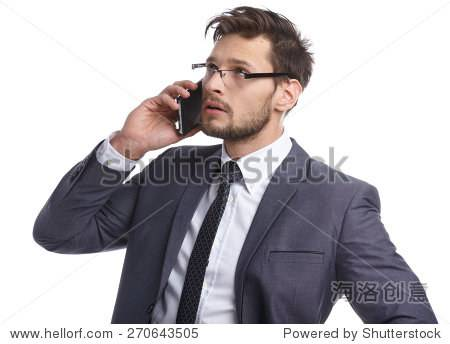phone: (163, 77, 205, 136)
talk: (131, 52, 265, 160)
